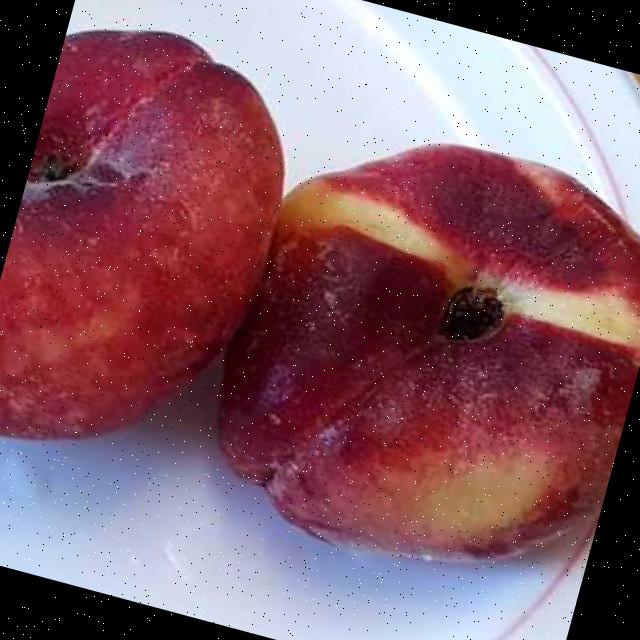peach: (0, 27, 640, 562)
